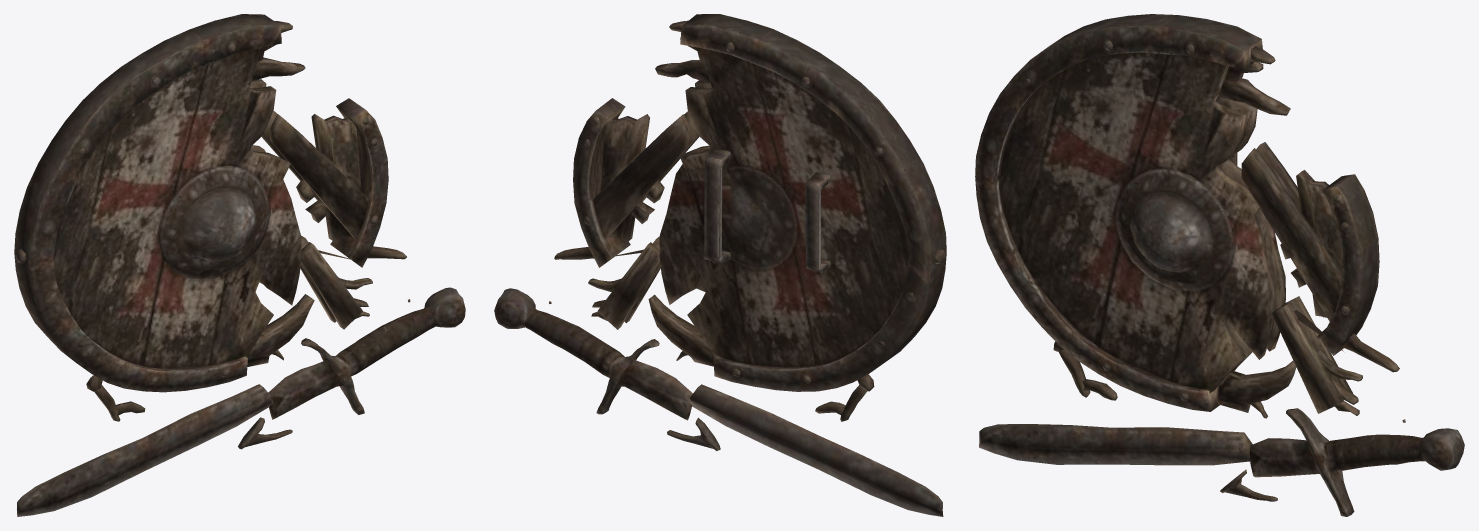
The model's file is d_sword_shield_broken.glb.
The picture shows the model from 3 angles, left to right: view 1: azimuth 30°, elevation 25°; view 2: azimuth 150°, elevation 25°; view 3: azimuth 330°, elevation 25°; orthographic projection. The views are drawn at different scales.
Parts seen in each view (by area): view 1: d_sword_shield_broken; view 2: d_sword_shield_broken; view 3: d_sword_shield_broken.
Part boxes in pixels (<box>): d_sword_shield_broken: <box>14,14,465,516</box>; d_sword_shield_broken: <box>494,14,946,516</box>; d_sword_shield_broken: <box>975,14,1464,516</box>.
Size of the model in its own units: 1.43 by 1.36 by 0.2327.
1 material, 1 textured.
